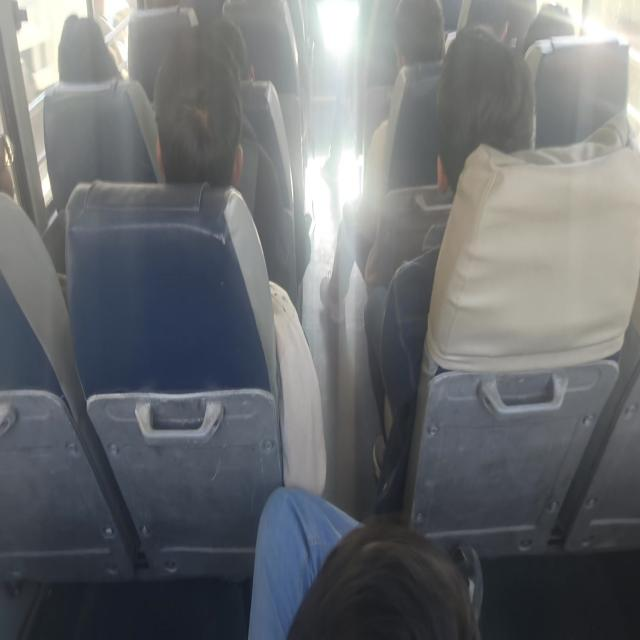person: (285, 510, 491, 640), (159, 68, 260, 194), (433, 43, 527, 169), (35, 0, 132, 83), (173, 12, 270, 80), (387, 0, 451, 66), (517, 9, 590, 52), (0, 106, 22, 199)
